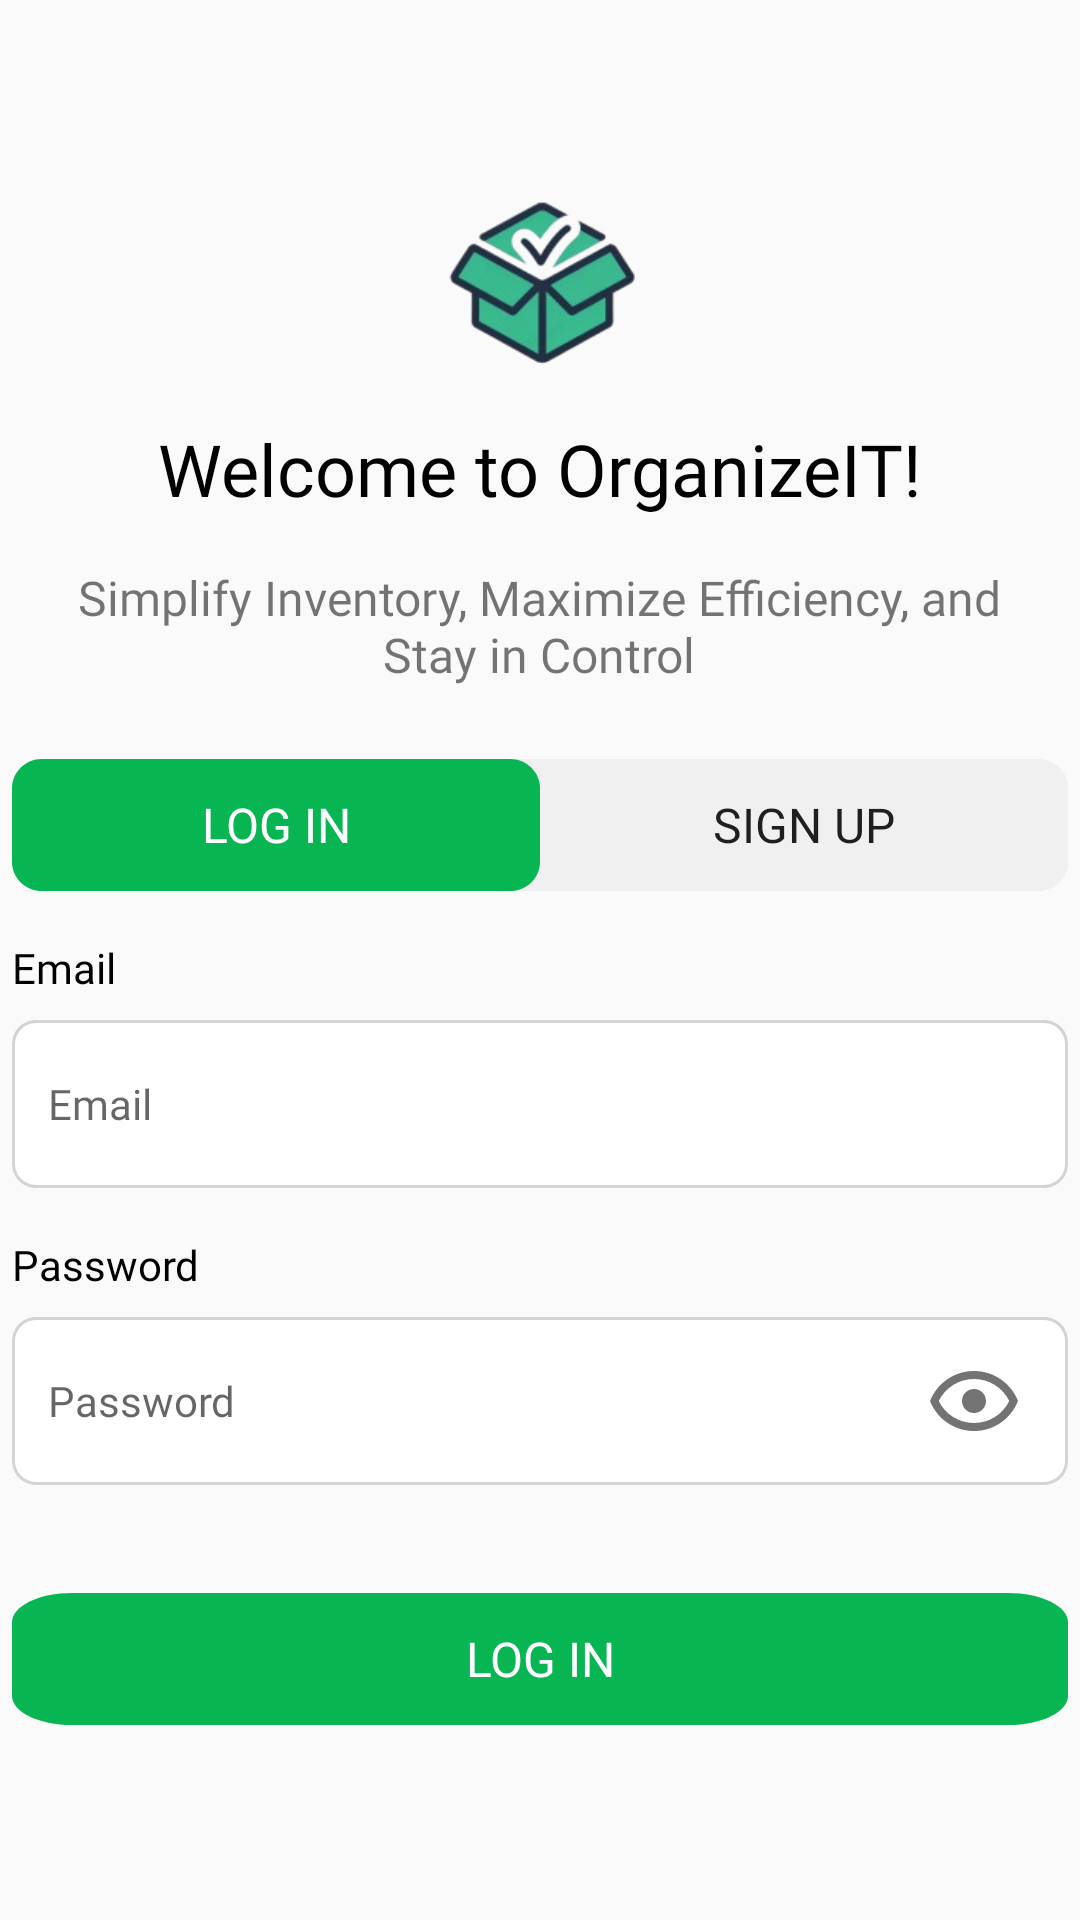

Icons on this 1080px x 1920px Android screen, each with its box as (x1, y1, x2, y2):
opened eye: (930, 1371, 1018, 1431)
